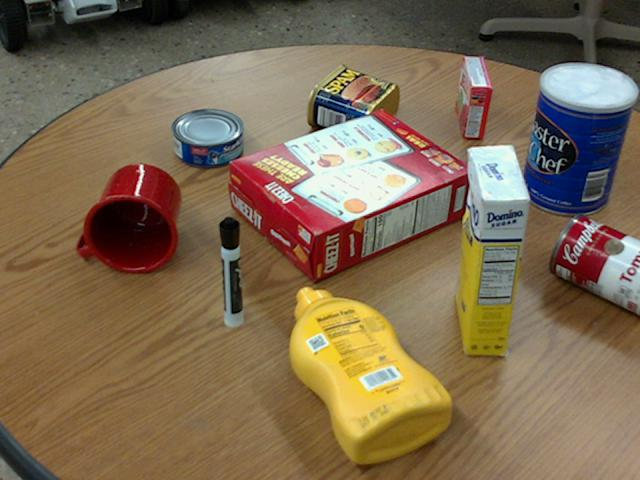cracker_box: (228, 110, 471, 281)
gelatin_box: (457, 56, 491, 137)
large_marker: (218, 216, 241, 327)
master_chef_can: (521, 63, 636, 215)
mug: (76, 163, 179, 273)
mustard_bottle: (289, 287, 451, 463)
potted_meat_can: (307, 64, 399, 139)
sugar_box: (458, 144, 528, 355)
tomato_soup_can: (550, 212, 639, 313)
tuna_fish_can: (171, 108, 242, 165)
